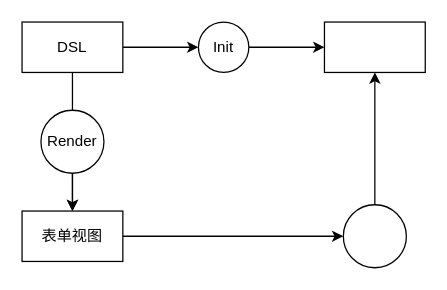
Some shapes in this 447 by 290 pixel diagram are drawn without their labels. Each missing label, with the centre of its shape:
"Reduce" belongs at [374,235].
"Store" belongs at [374,46].
